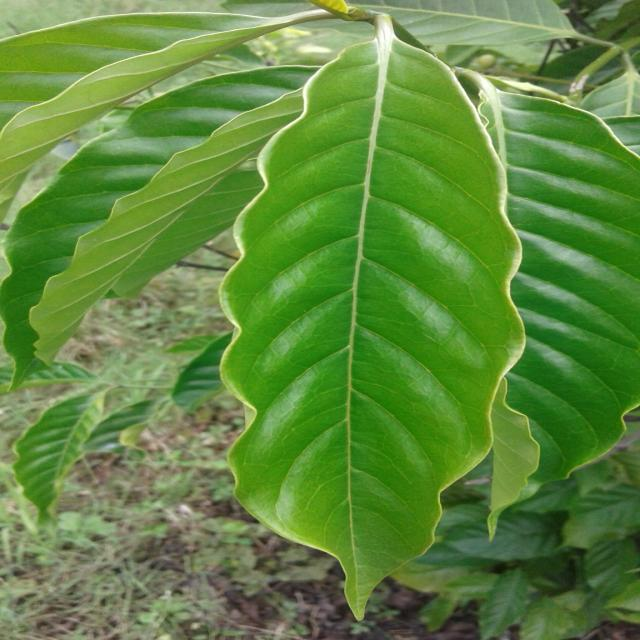Sanas: (218, 14, 524, 624)
